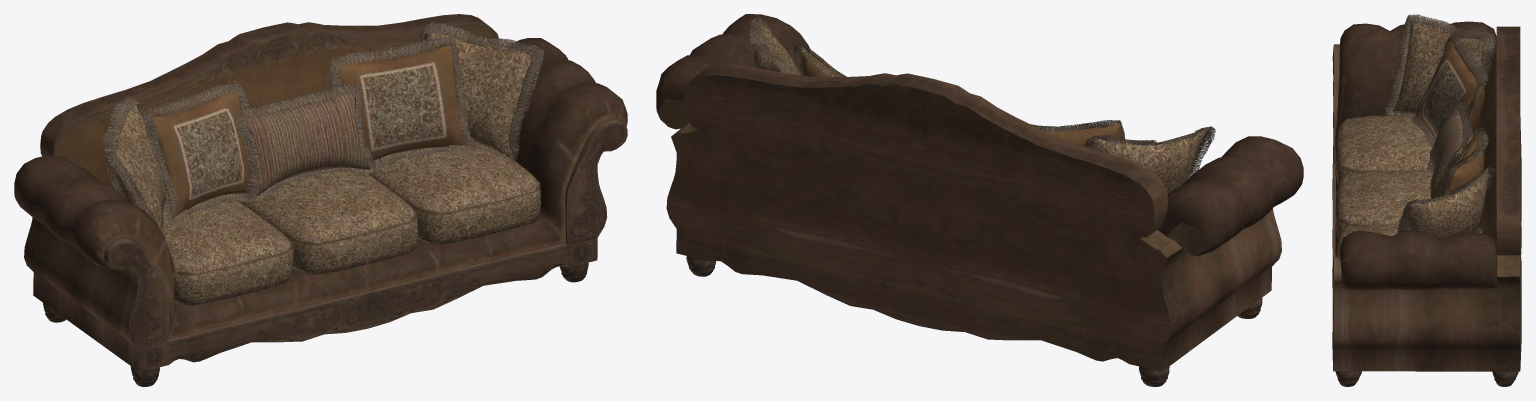
File: sofa.glb
3 views of the same model, side by side, from view 1: azimuth 30°, elevation 25°; view 2: azimuth 150°, elevation 25°; view 3: azimuth 270°, elevation 25° (orthographic). The views are drawn at different scales.
Parts seen in each view (by area): view 1: sofa_03_0; view 2: sofa_03_0; view 3: sofa_03_0.
Part boxes in pixels (x1,y1,x2,y2): sofa_03_0: [14, 14, 627, 386]; sofa_03_0: [656, 14, 1303, 386]; sofa_03_0: [1332, 14, 1521, 386].
Bounding box in the file's own units: 2.73 × 1.12 × 0.925.
Materials: 2 (2 with a texture image).
